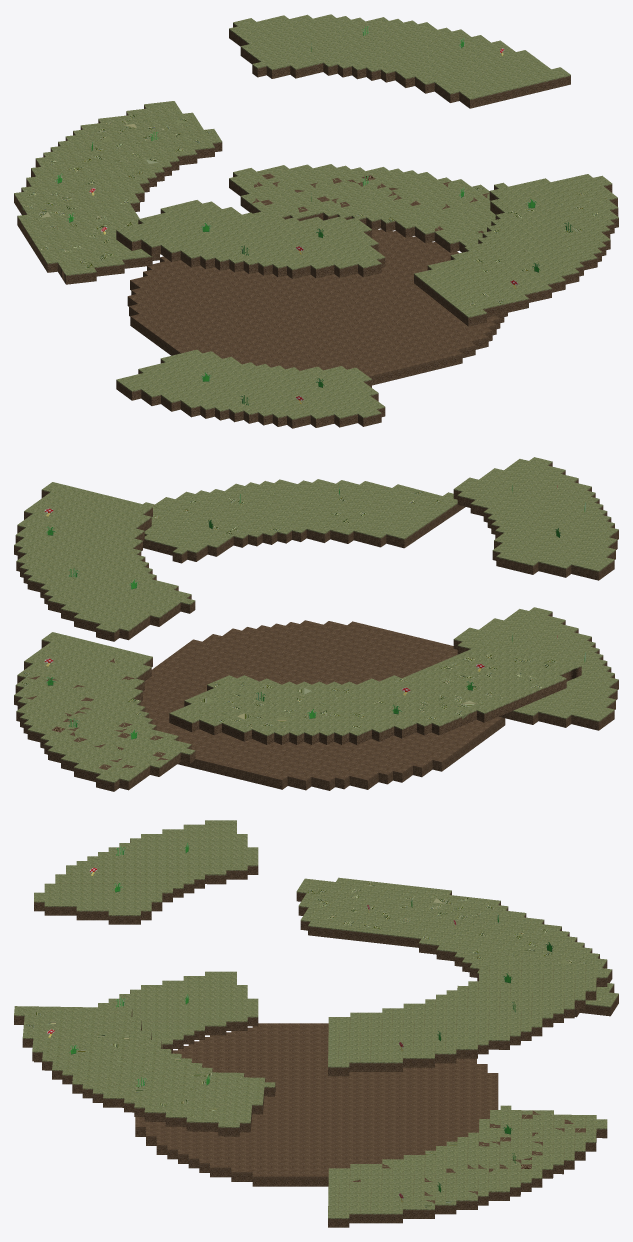
The model's file is stage1.fbx.
3 views of the same model, one above another, from view 1: azimuth 30°, elevation 25°; view 2: azimuth 150°, elevation 25°; view 3: azimuth 270°, elevation 25° (orthographic).
Parts seen in each view (by area): view 1: stage_boss, stage_2nd_2, stage_3nd_1, stage_2nd_1, stage_1nd_1, stage_1nd_2, stage_3nd_2; view 2: stage_boss, stage_2nd_2, stage_3nd_1, stage_1nd_1, stage_2nd_1, stage_3nd_2, stage_1nd_2; view 3: stage_boss, stage_3nd_1, stage_1nd_1, stage_2nd_1, stage_2nd_2, stage_3nd_2, stage_1nd_2.
Boxes of the visible parts, x1,y1,x2,y2 form: stage_boss: (127, 229, 507, 385); stage_2nd_2: (14, 101, 222, 284); stage_3nd_1: (229, 14, 570, 108); stage_2nd_1: (414, 174, 618, 326); stage_1nd_1: (229, 164, 495, 252); stage_1nd_2: (116, 349, 385, 428); stage_3nd_2: (116, 200, 385, 278); stage_boss: (141, 620, 505, 790); stage_2nd_2: (169, 643, 581, 744); stage_3nd_1: (14, 482, 195, 641); stage_1nd_1: (14, 632, 195, 791); stage_2nd_1: (143, 479, 465, 563); stage_3nd_2: (453, 457, 618, 580); stage_1nd_2: (453, 607, 618, 730); stage_boss: (135, 1023, 498, 1186); stage_3nd_1: (328, 954, 607, 1076); stage_1nd_1: (328, 1105, 607, 1227); stage_2nd_1: (14, 1006, 275, 1136); stage_2nd_2: (296, 877, 618, 1017); stage_3nd_2: (34, 820, 258, 924); stage_1nd_2: (34, 971, 258, 1062).
Size of the model in its own units: 5654 by 1854 by 5657.
